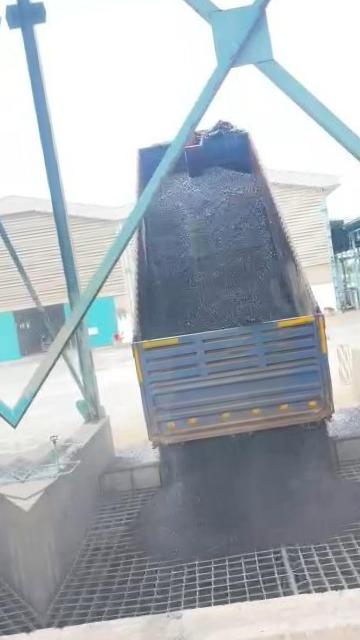gravel: (135, 402, 360, 561), (141, 168, 292, 338)
